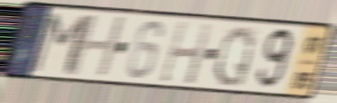6: (125, 19, 164, 81)
9: (253, 26, 297, 92)
H: (65, 14, 129, 79), (157, 18, 215, 87)
M: (28, 11, 93, 78)
Q: (210, 23, 258, 89)
